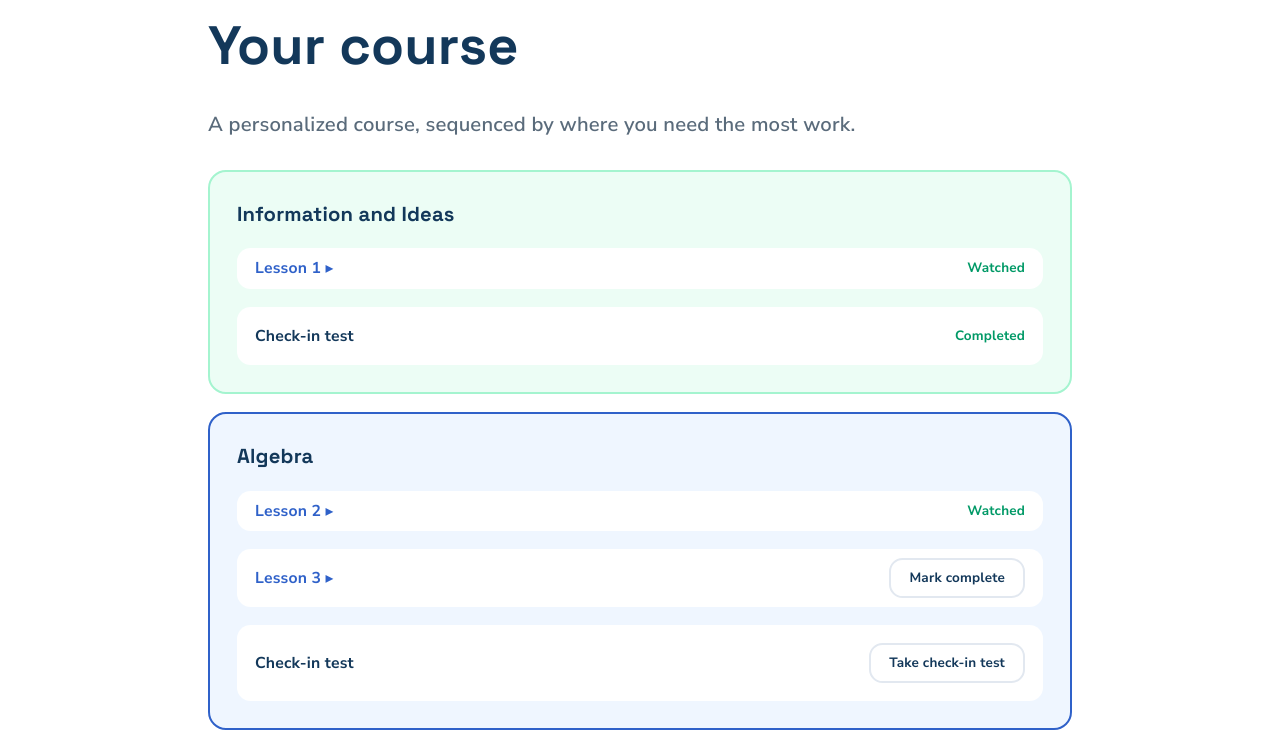
Test case: StudentCourseView › marks lesson complete and reloads progress
Check: the heading "Your course" is shown, box top-left (208, 11), bottom-right (518, 80)
Click the button "Mark complete" at (957, 578), box top-left (890, 558), bottom-right (1025, 598)
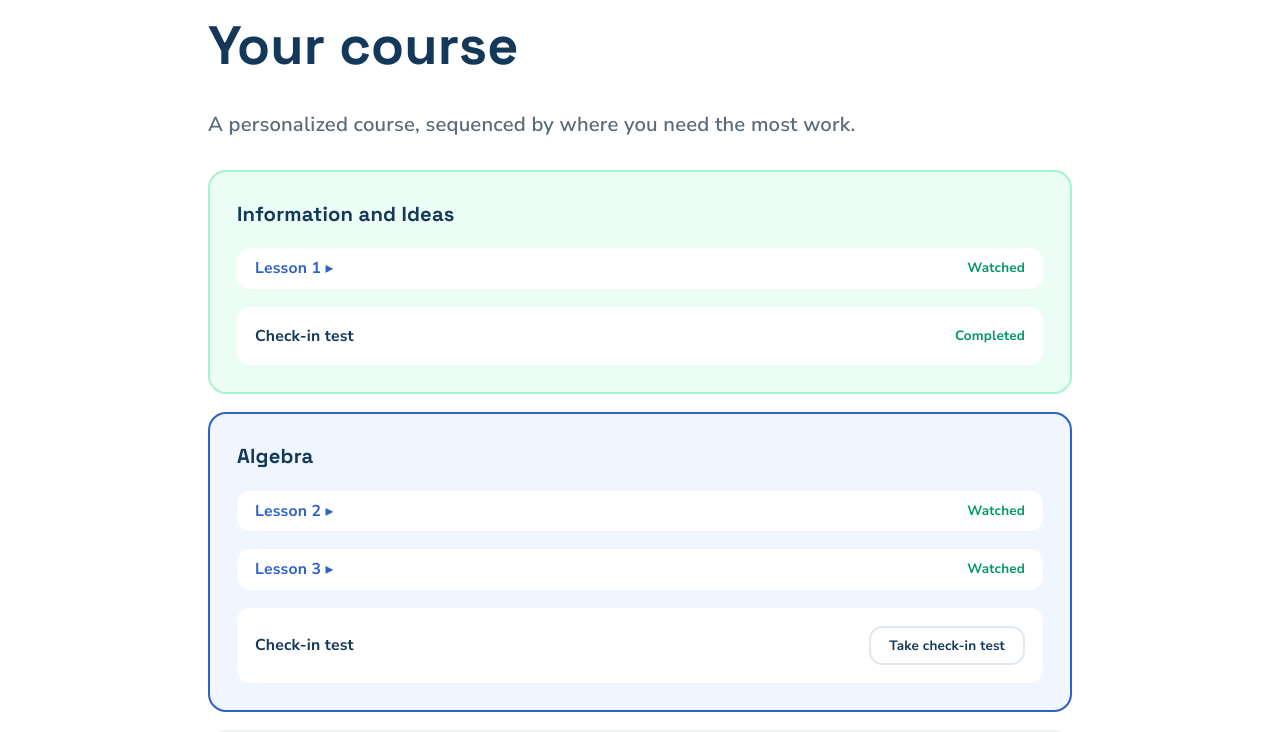
Check: the button "Mark complete" is gone
